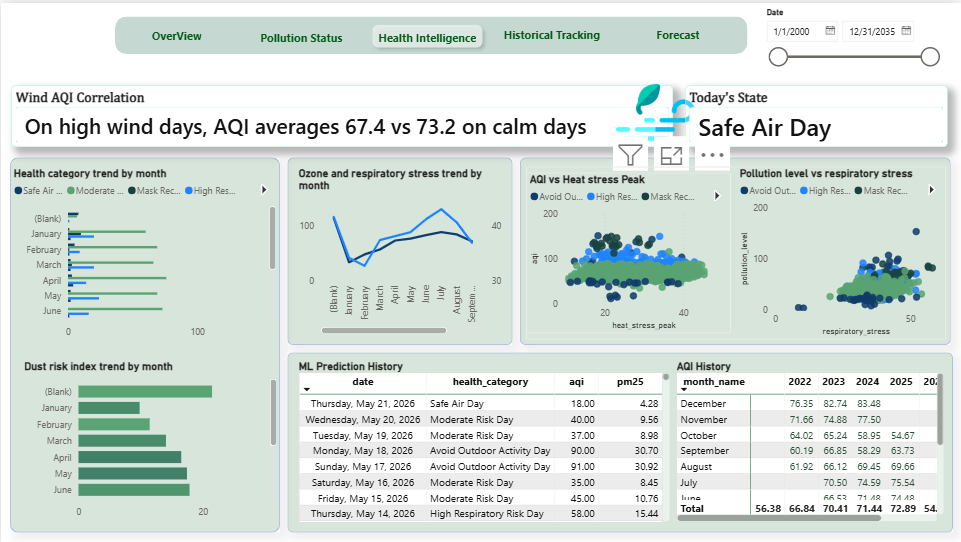

This screenshot's page, from the dashboard's own definition file:
{"tool":"powerbi","page":{"name":"Page 2Health Intelligence","canvas":[1280,720],"ordinal":1},"visuals":[{"type":"cardVisual","fields":{"Data":["DAX.Latest Health Category"]},"box":[10,0,280,101.7],"z":0},{"type":"barChart","fields":{"Category":["DimDate.month"],"Y":["DAX.Total Days"],"Series":["EnvironmentalFeatures.health_category"]},"box":[0,126.4,280,271.8],"z":1},{"type":"scatterChart","fields":{"X":["EnvironmentalFeatures.pollution_level"],"Y":["EnvironmentalFeatures.respiratory_stress"],"Series":["EnvironmentalFeatures.health_category"]},"box":[0,408,280,272],"z":2},{"type":"tableEx","fields":{"Values":["DAX.Safe Air Days","DAX.Moderate Risk Days","DAX.Mask Recommended Days","DAX.High Respiratory Days","DAX.Dangerous Days Rate","DAX.Avoid Outdoor Days"]},"box":[415,35,730,67.5],"z":3},{"type":"tableEx","fields":{"Values":["RiskPredictions.date","RiskPredictions.health_category","RiskPredictions.aqi","RiskPredictions.pm25","RiskPredictions.model_version"]},"box":[332.5,102.5,810,205],"z":4},{"type":"pivotTable","fields":{"Rows":["DimDate.month_name"],"Columns":["DimDate.year"],"Values":["DAX.Average AQI"]},"box":[332.5,307.5,810,202.5],"z":5},{"type":"lineChart","fields":{"Category":["DimDate.month"],"Y":["Sum(EnvironmentalFeatures.ozone)"],"Y2":["Avg(EnvironmentalFeatures.respiratory_stress)"]},"box":[333,511,810,169],"z":6},{"type":"cardVisual","fields":{"Data":["DAX.Wind AQI Correlation Label"]},"box":[252.5,0,180,102.5],"z":7}]}

Visuals, with their boxes on the page's 1280x720 design canvas (x1, y1, x2, y2). These are canvas units, not pixel positions in the 961x542 screenshot, which may show the page scaled, cropped or inside an application window:
cardVisual - DAX.Latest Health Category: crop(10, 0, 290, 102)
barChart - DimDate.month x DAX.Total Days: crop(0, 126, 280, 398)
scatterChart - EnvironmentalFeatures.pollution_level x EnvironmentalFeatures.respiratory_stress: crop(0, 408, 280, 680)
tableEx - DAX.Safe Air Days x DAX.Moderate Risk Days: crop(415, 35, 1145, 102)
tableEx - RiskPredictions.date x RiskPredictions.health_category: crop(332, 102, 1142, 308)
pivotTable - DimDate.month_name x DimDate.year: crop(332, 308, 1142, 510)
lineChart - DimDate.month x Sum(EnvironmentalFeatures.ozone): crop(333, 511, 1143, 680)
cardVisual - DAX.Wind AQI Correlation Label: crop(252, 0, 432, 102)
